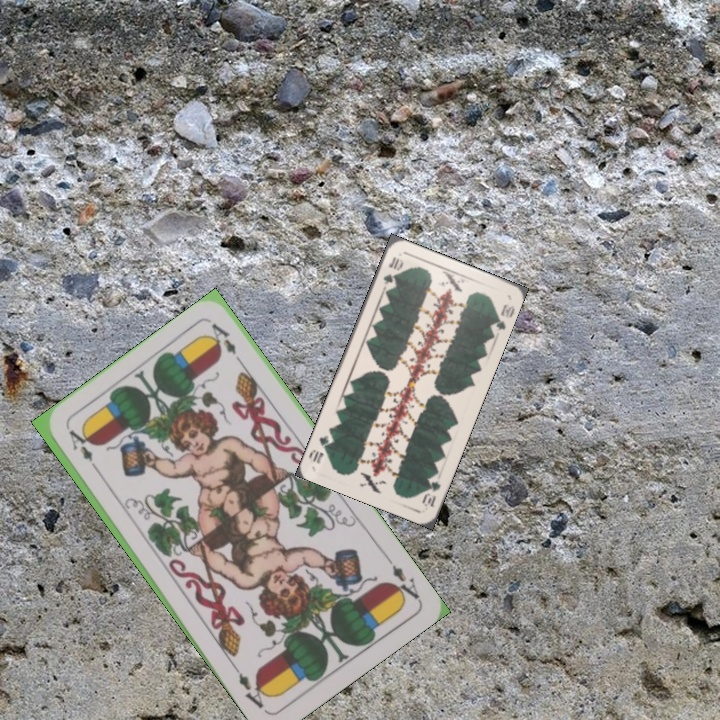EA: (381, 552, 422, 607), (64, 425, 103, 476)
G10: (379, 253, 405, 287), (418, 477, 443, 509)
